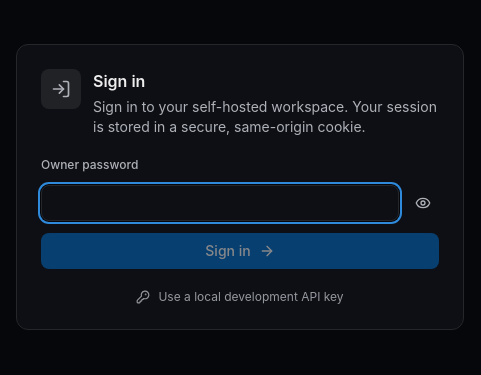
Test case: LoginPage › uses a safe generic message for non-Error authentication failures
The width and height of the screenshot is (481, 375).
Type "owner password" into the password field labelled "Owner password" at coordinates (220, 203), box [41, 185, 399, 221]
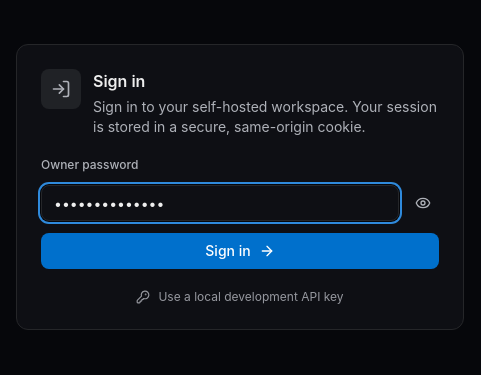
Click the button "Sign in" at coordinates (240, 251), box [41, 233, 439, 269]
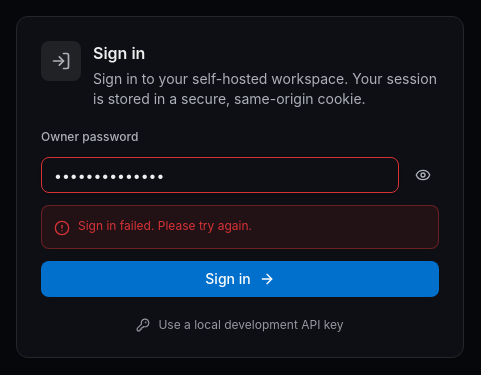
expect the message does not show "do not expose": met, box [41, 205, 439, 249]
expect the message reads "Sign in failed. Please try again.": met, box [78, 218, 252, 233]
